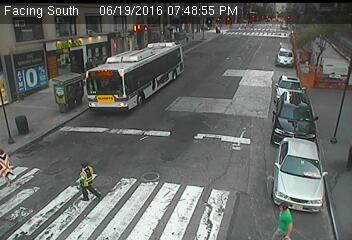neg: (195, 62, 215, 89), (96, 78, 116, 105), (94, 7, 114, 34), (262, 49, 282, 75), (311, 17, 330, 42), (299, 47, 317, 71), (174, 121, 192, 145), (291, 85, 307, 107), (51, 78, 67, 100), (128, 12, 144, 33), (53, 33, 68, 54), (183, 8, 198, 29), (147, 61, 162, 81), (155, 7, 169, 26), (238, 108, 250, 124), (255, 7, 267, 22)
pos: (68, 156, 103, 203), (266, 192, 299, 235)
